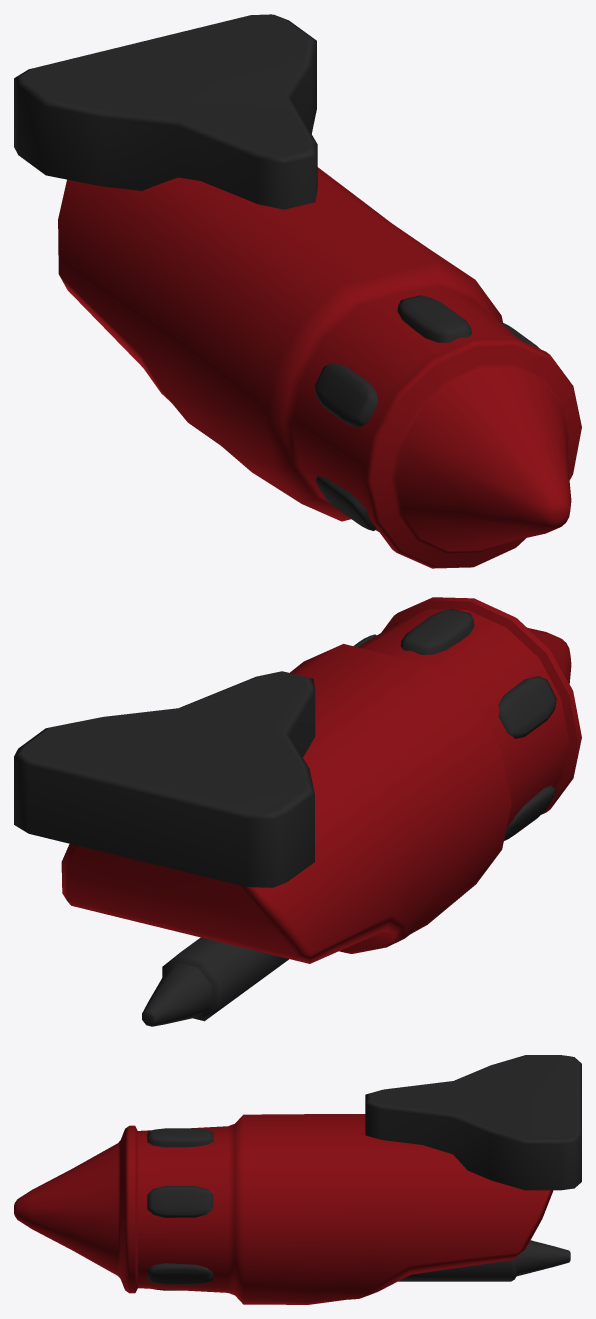
File: Spaceship_main_02_Weapon_L.fbx
3 views of the same model, one above another, from view 1: azimuth 30°, elevation 25°; view 2: azimuth 150°, elevation 25°; view 3: azimuth 270°, elevation 25° (orthographic). The views are drawn at different scales.
Visible parts, largest first — view 1: Spaceship_main_02_Weapon_L; view 2: Spaceship_main_02_Weapon_L; view 3: Spaceship_main_02_Weapon_L.
Part boxes in pixels (<box>): Spaceship_main_02_Weapon_L: <box>14,14,581,568</box>; Spaceship_main_02_Weapon_L: <box>14,597,581,1026</box>; Spaceship_main_02_Weapon_L: <box>14,1055,581,1304</box>.
Size of the model in its own units: 87.56 by 88.7 by 236.
